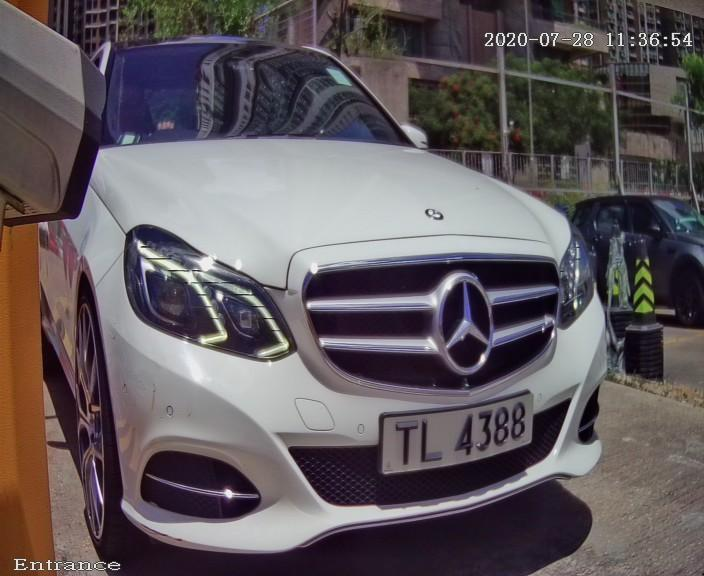privatecar: (41, 1, 635, 576)
